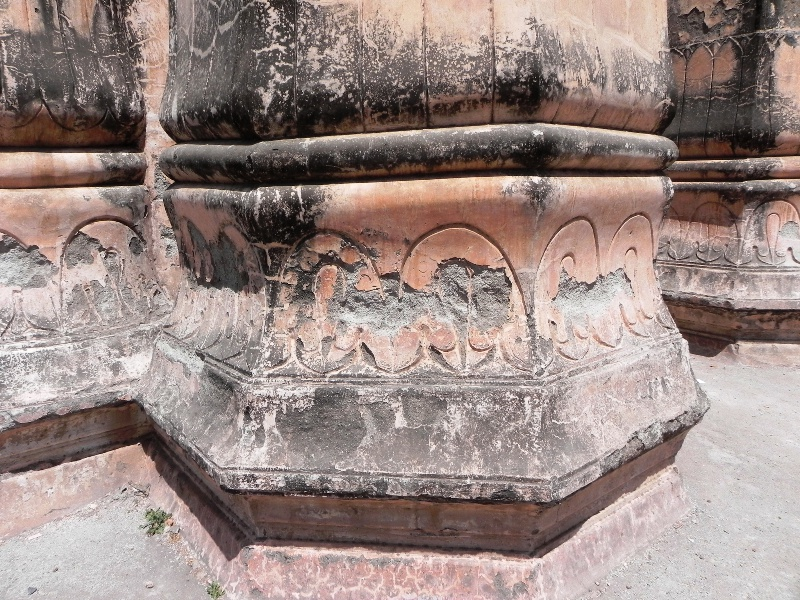Spalling: (320, 251, 522, 336), (549, 267, 634, 322)
